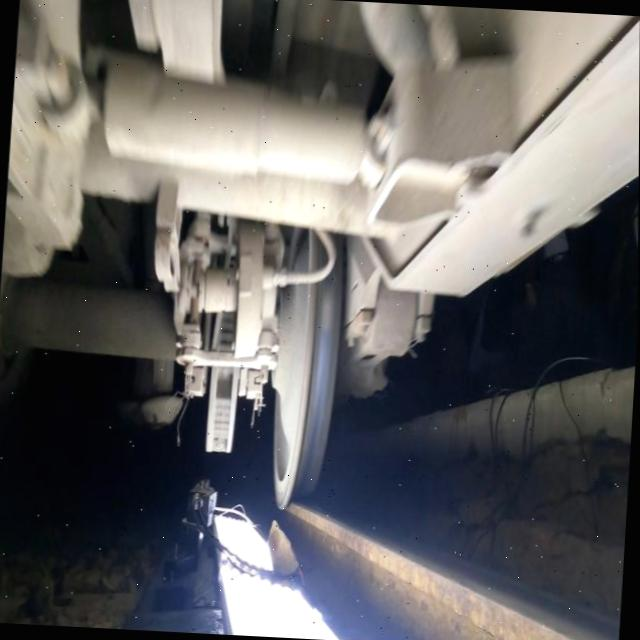Shelling: (319, 286, 336, 329)
Wheel: (271, 238, 342, 510)
